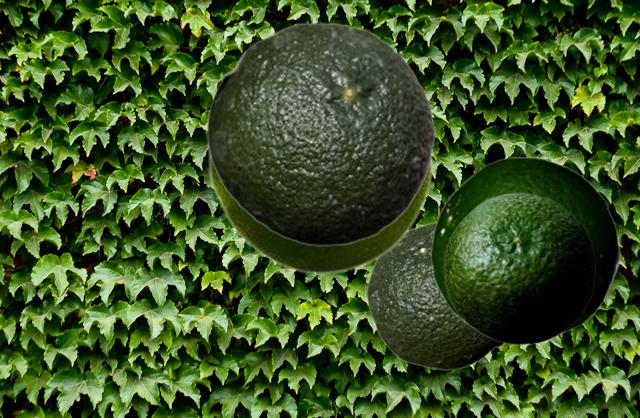calamansi: (206, 22, 435, 245), (430, 156, 620, 342), (207, 150, 433, 273), (443, 192, 594, 344), (366, 221, 504, 369)
